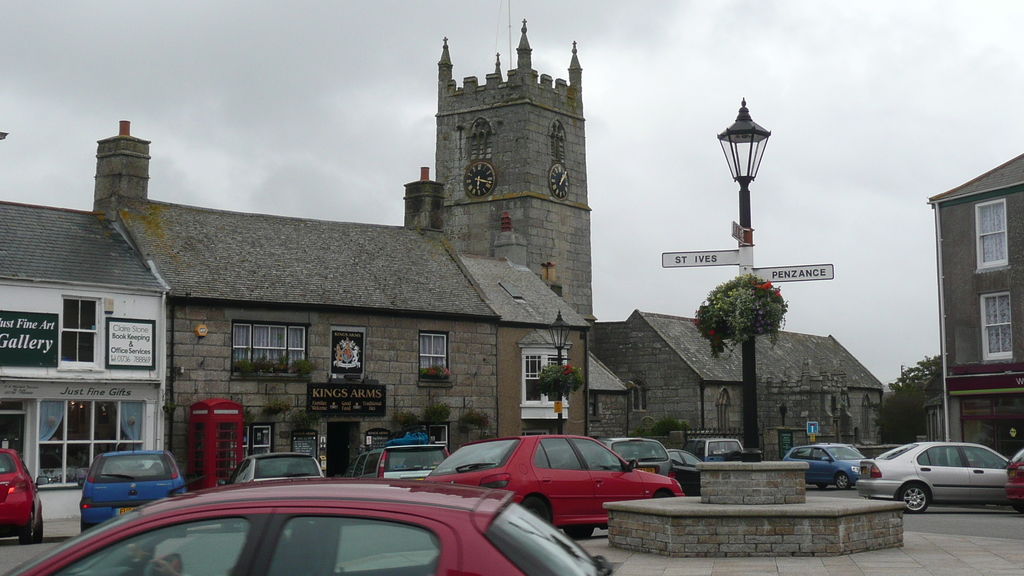Car: (0, 426, 1023, 575)
